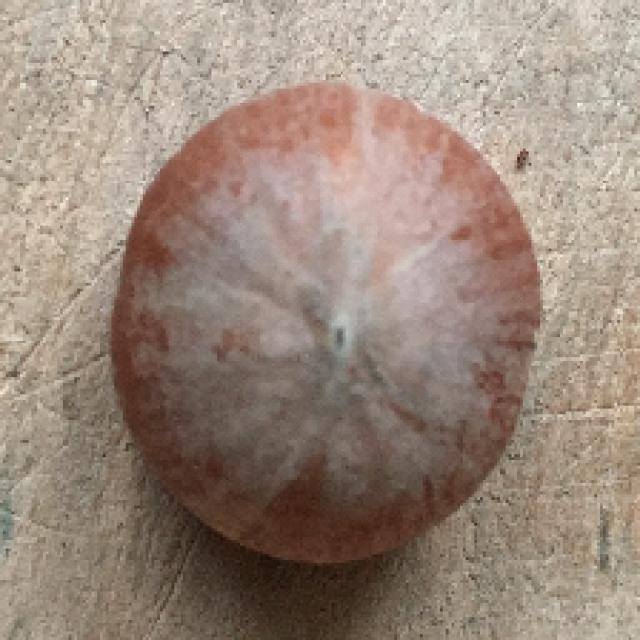QualityHazelnut: (111, 81, 543, 565)
